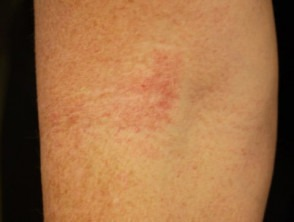Eczema: (118, 45, 195, 144)
